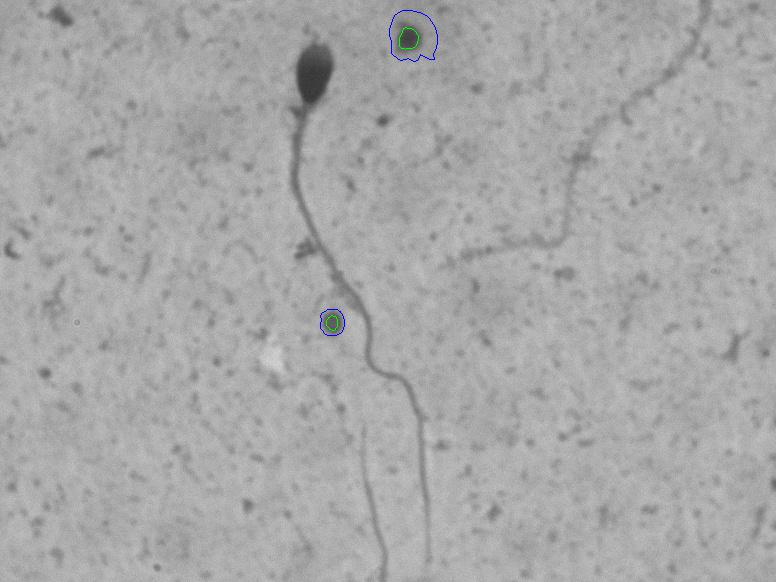Normal: (268, 33, 450, 564)
